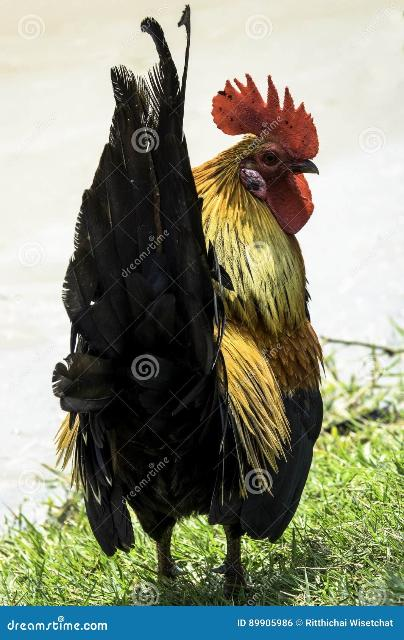Chicken: (54, 2, 323, 596)
